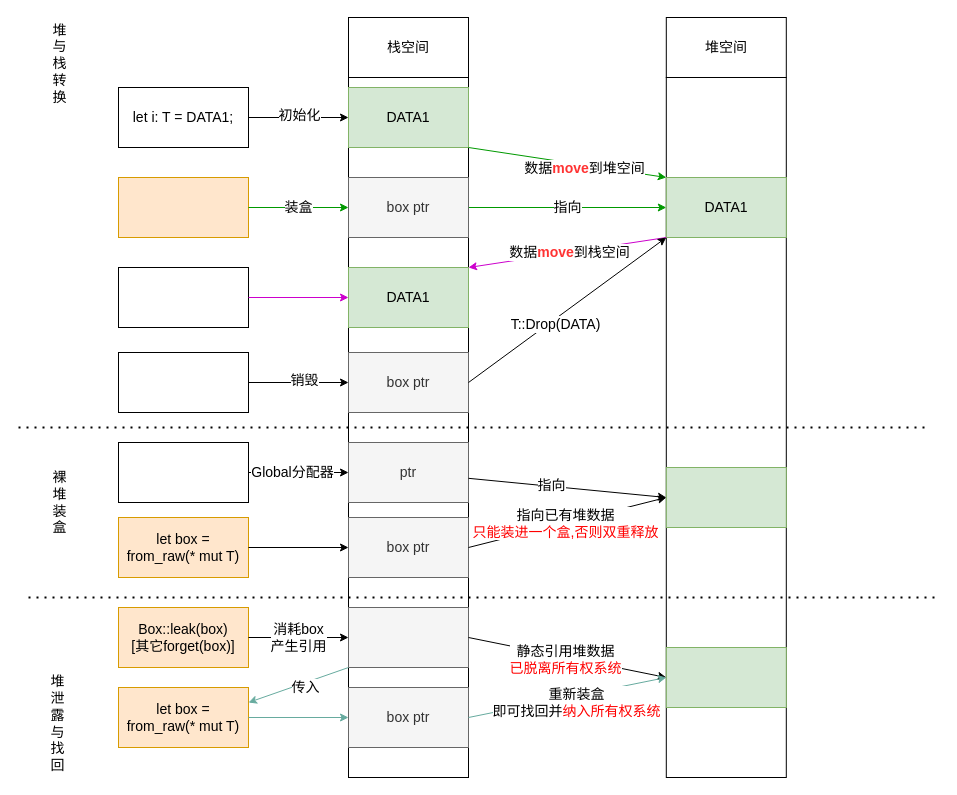
Image size: 957x795. Some labels were removed from this diagram. Each missing label, with the box of its shape:
&‘static’ mut T: (348, 606, 468, 668)
DATA2: (665, 466, 786, 528)
DATA3: (665, 646, 786, 708)
drop(box): (118, 352, 248, 412)
let box = Box::new(i): (118, 176, 248, 238)
let ptr = alloc(Layout): (118, 442, 248, 502)
let x = *box: (118, 266, 248, 328)
